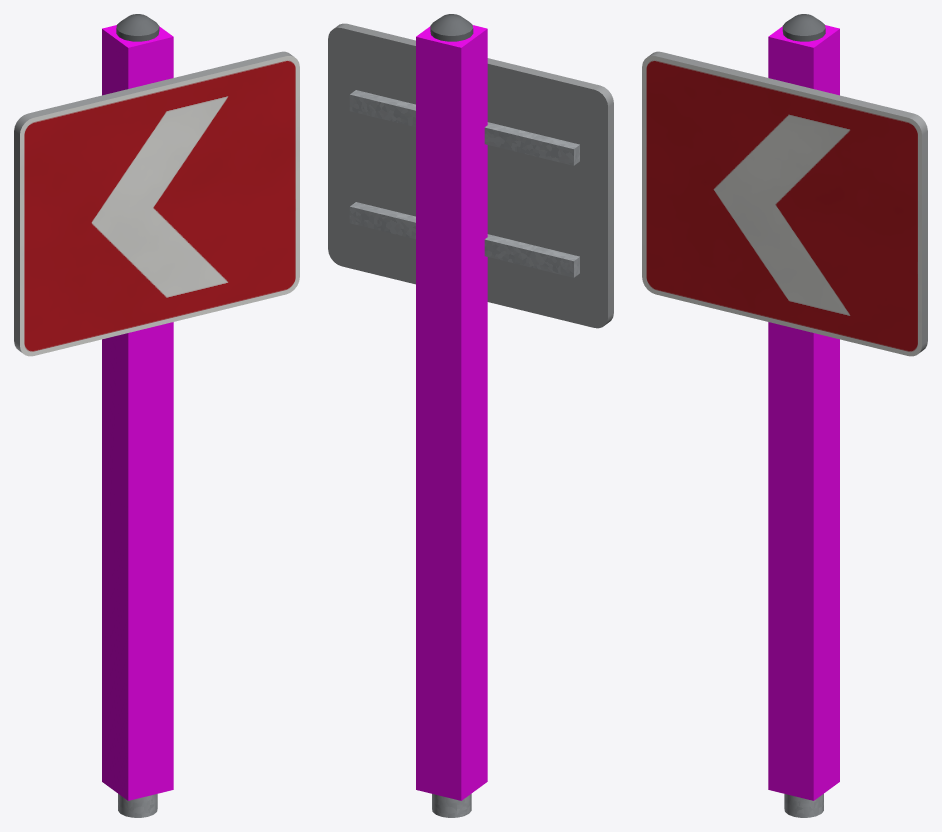
Rendered from EN_Sign_1_34_2_Left.fbx.
3 renders of one model, left to right at view 1: azimuth 30°, elevation 25°; view 2: azimuth 150°, elevation 25°; view 3: azimuth 330°, elevation 25°, orthographic.
Parts seen in each view (by area): view 1: EN_Sign_1_34_2_Left_Mesh, COL_Post; view 2: COL_Post, EN_Sign_1_34_2_Left_Mesh; view 3: EN_Sign_1_34_2_Left_Mesh, COL_Post.
Boxes of the visible parts, x1=… form: EN_Sign_1_34_2_Left_Mesh: x1=14, y1=14, x2=299, y2=817; COL_Post: x1=102, y1=25, x2=173, y2=800; COL_Post: x1=416, y1=25, x2=487, y2=800; EN_Sign_1_34_2_Left_Mesh: x1=328, y1=14, x2=613, y2=817; EN_Sign_1_34_2_Left_Mesh: x1=642, y1=14, x2=927, y2=817; COL_Post: x1=768, y1=25, x2=839, y2=800.
Size of the model in its own units: 0.615 by 1.66 by 0.134.
